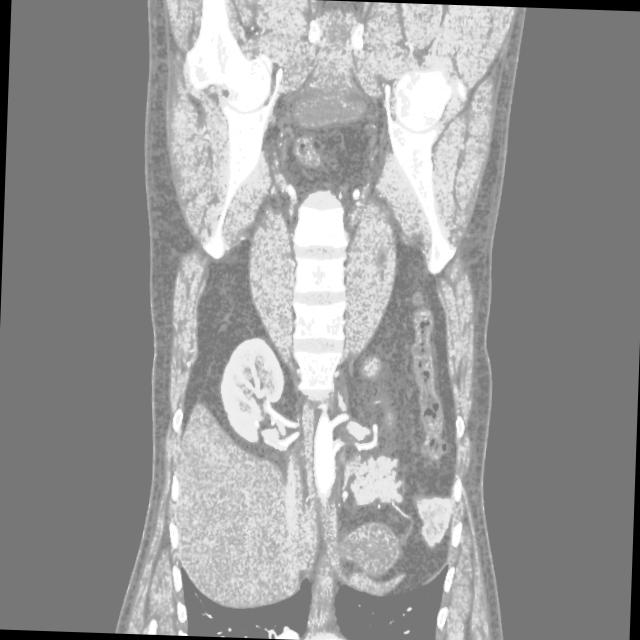NORMAL: (85, 81, 577, 619)
